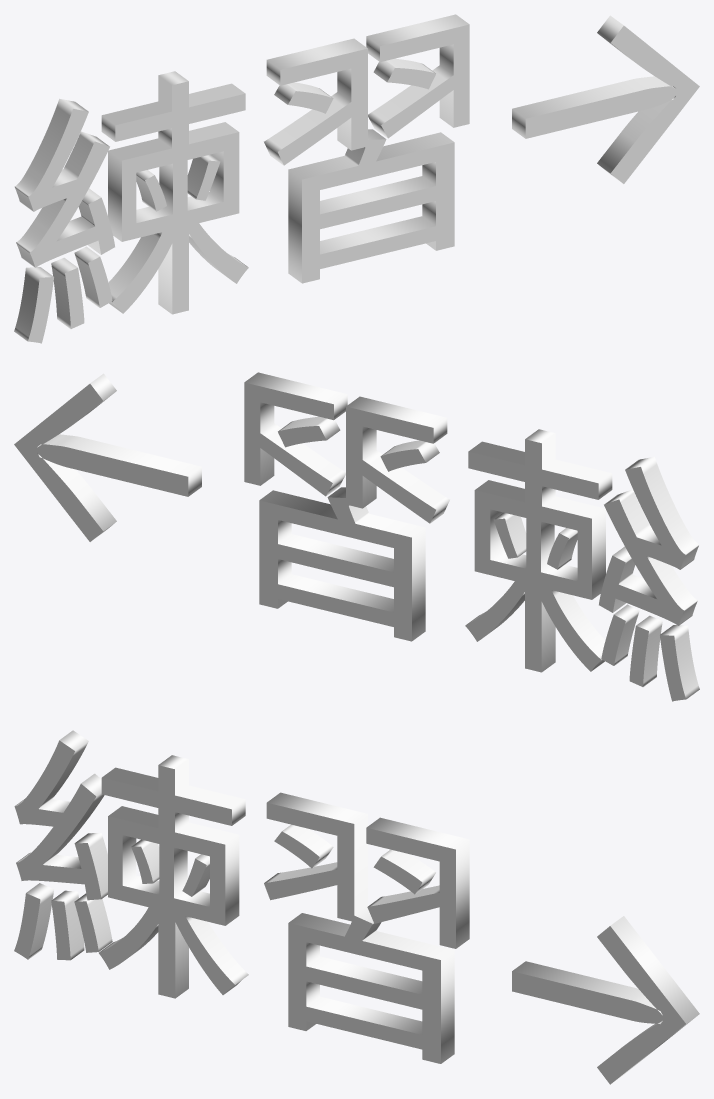
File: SignBoard_Rensyu.obj
3 views of the same model, one above another, from view 1: azimuth 30°, elevation 25°; view 2: azimuth 150°, elevation 25°; view 3: azimuth 330°, elevation 25° (orthographic).
Parts seen in each view (by area): view 1: テキスト.001; view 2: テキスト.001; view 3: テキスト.001.
Part boxes in pixels (bbox=[...]): テキスト.001: bbox=[14, 14, 699, 343]; テキスト.001: bbox=[14, 372, 699, 701]; テキスト.001: bbox=[14, 730, 699, 1084].
Bounding box in the file's own units: 2.82 × 0.925 × 0.1.
